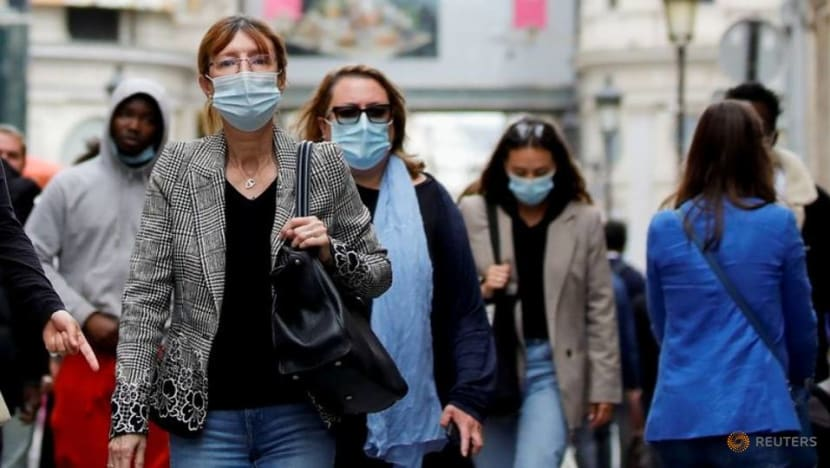with_mask: (215, 47, 280, 121), (329, 94, 392, 161), (511, 157, 553, 200)
without_mask: (113, 107, 159, 152)
